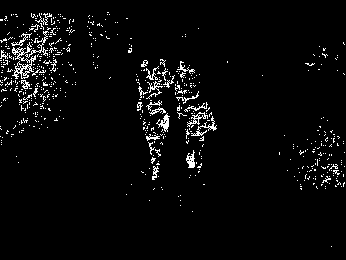person: (180, 92, 218, 174), (141, 100, 171, 180), (175, 59, 199, 99), (152, 59, 173, 98), (136, 59, 151, 97)
